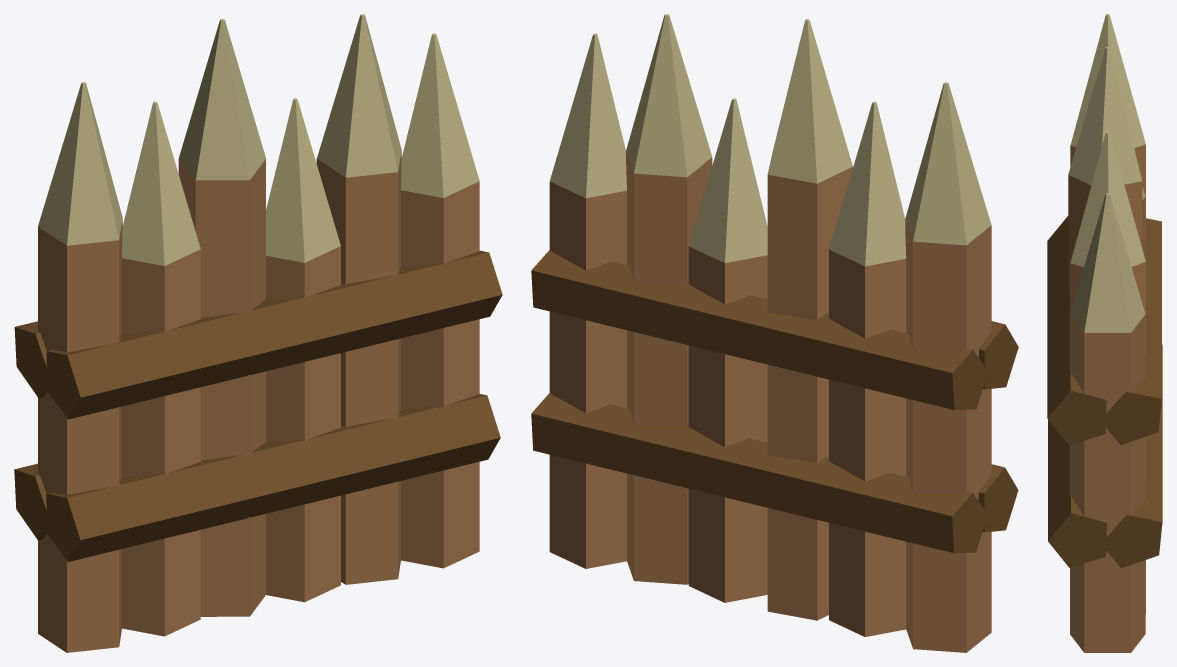
File: WoodenWall1.fbx
3 renders of one model, left to right at view 1: azimuth 30°, elevation 25°; view 2: azimuth 150°, elevation 25°; view 3: azimuth 270°, elevation 25°, orthographic. The views are drawn at different scales.
Visible parts, largest first — view 1: Cylinder.001, Cylinder.007, Cylinder.006, Cylinder.013, Cylinder.011, Cylinder, Cylinder.010, Cylinder.012, Cylinder.005, Cylinder.004; view 2: Cylinder.001, Cylinder.013, Cylinder.010, Cylinder, Cylinder.011, Cylinder.005, Cylinder.004, Cylinder.012, Cylinder.006, Cylinder.007; view 3: Cylinder.011, Cylinder.013, Cylinder.007, Cylinder.004, Cylinder.010, Cylinder.006, Cylinder.005, Cylinder.001, Cylinder.
Boxes of the visible parts, box(x1,y1,x2,y2) form: Cylinder.001: box(38, 82, 122, 652); Cylinder.007: box(46, 250, 502, 419); Cylinder.006: box(46, 394, 500, 561); Cylinder.013: box(178, 19, 265, 616); Cylinder.011: box(401, 33, 479, 568); Cylinder: box(122, 101, 200, 636); Cylinder.010: box(316, 14, 401, 584); Cylinder.012: box(266, 98, 340, 602); Cylinder.005: box(14, 463, 46, 540); Cylinder.004: box(14, 321, 46, 398); Cylinder.001: box(905, 82, 991, 652); Cylinder.013: box(767, 19, 852, 620); Cylinder.010: box(626, 14, 712, 584); Cylinder: box(829, 101, 906, 636); Cylinder.011: box(549, 33, 626, 568); Cylinder.005: box(531, 393, 985, 553); Cylinder.004: box(531, 250, 984, 410); Cylinder.012: box(688, 98, 767, 602); Cylinder.006: box(978, 464, 1018, 532); Cylinder.007: box(979, 321, 1018, 389); Cylinder.011: box(1070, 193, 1145, 652); Cylinder.013: box(1068, 47, 1142, 291); Cylinder.007: box(1047, 216, 1106, 445); Cylinder.004: box(1106, 218, 1161, 445); Cylinder.010: box(1070, 131, 1145, 613); Cylinder.006: box(1048, 420, 1106, 567); Cylinder.005: box(1101, 344, 1162, 568); Cylinder.001: box(1070, 14, 1145, 238); Cylinder: box(1142, 186, 1145, 258).
Bounding box in the file's own units: 610 × 803 × 167.
